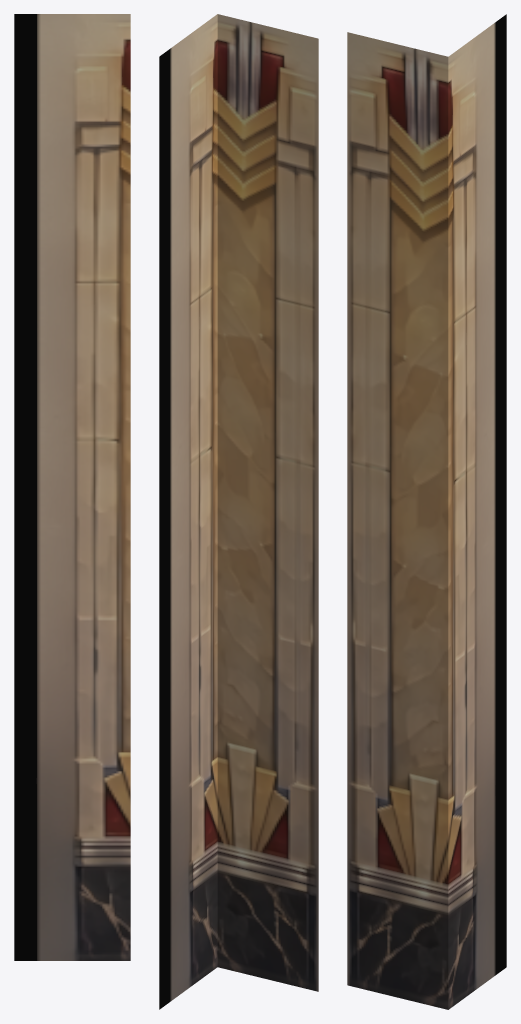
The model's file is DECO_Corner_G.fbx.
3 views of the same model, side by side, from view 1: azimuth 90°, elevation 25°; view 2: azimuth 150°, elevation 25°; view 3: azimuth 330°, elevation 25° (orthographic).
Visible parts, largest first — view 1: DECO_Corner_G; view 2: DECO_Corner_G; view 3: DECO_Corner_G.
Boxes of the visible parts, box(x1,y1,x2,y2) form: DECO_Corner_G: box(14, 14, 130, 960); DECO_Corner_G: box(159, 14, 318, 1009); DECO_Corner_G: box(347, 14, 506, 1009).
Size of the model in its own units: 0.5 by 0.5 by 4.5.
Materials: 1 (1 with a texture image).
